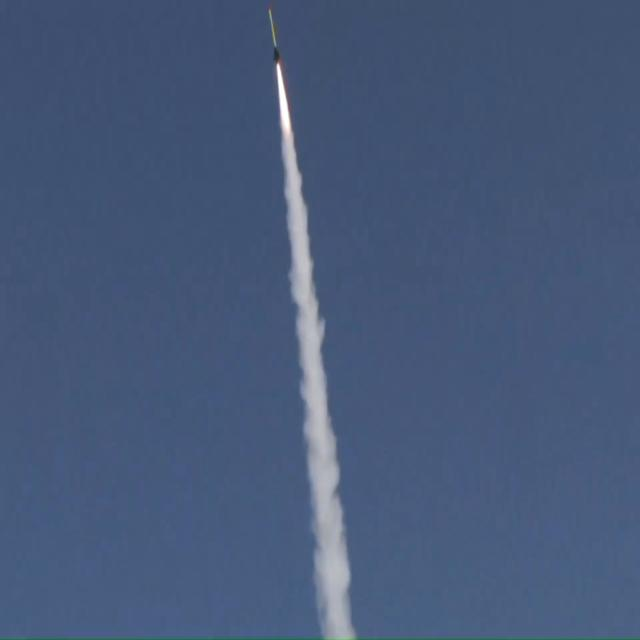Rocket: (268, 5, 280, 66)
